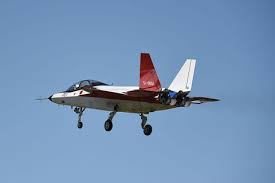fighter: (46, 50, 222, 133)
